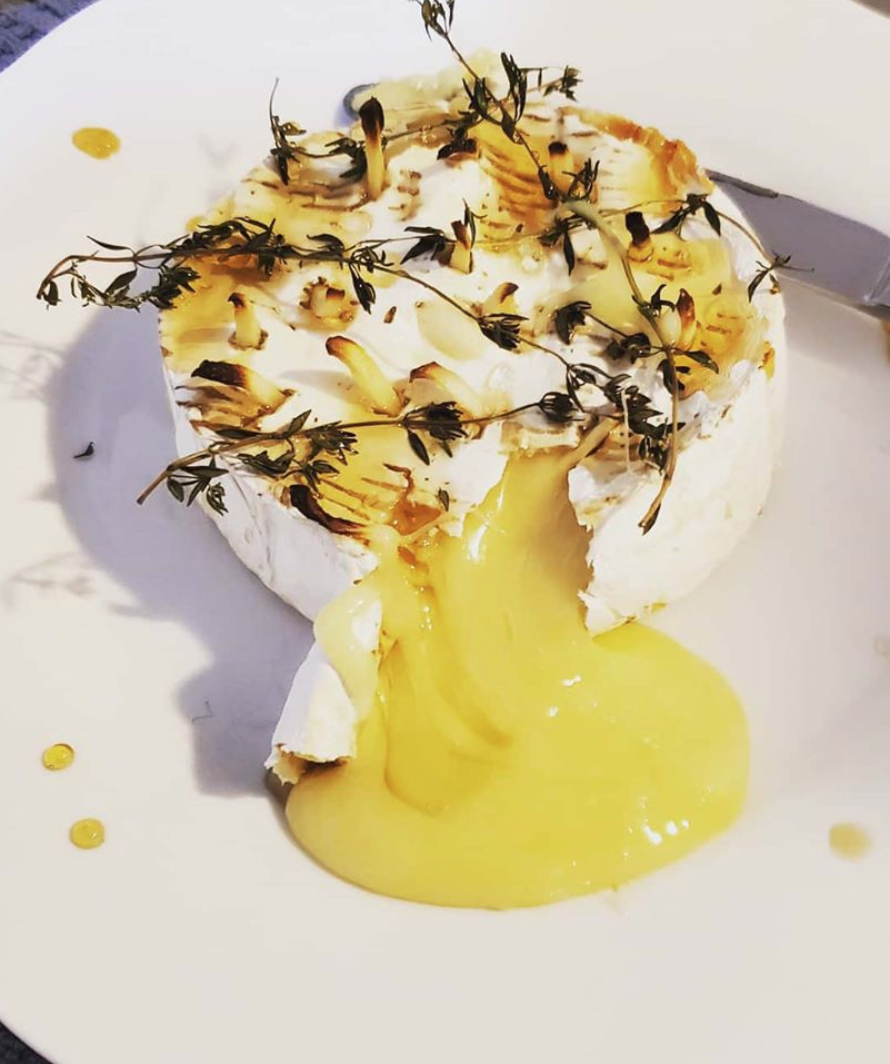camembert: (154, 84, 792, 781)
